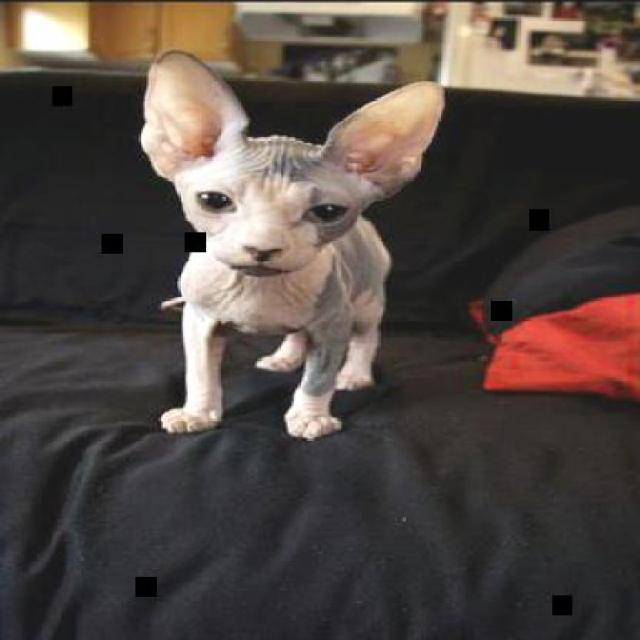cat: (142, 48, 446, 442)
